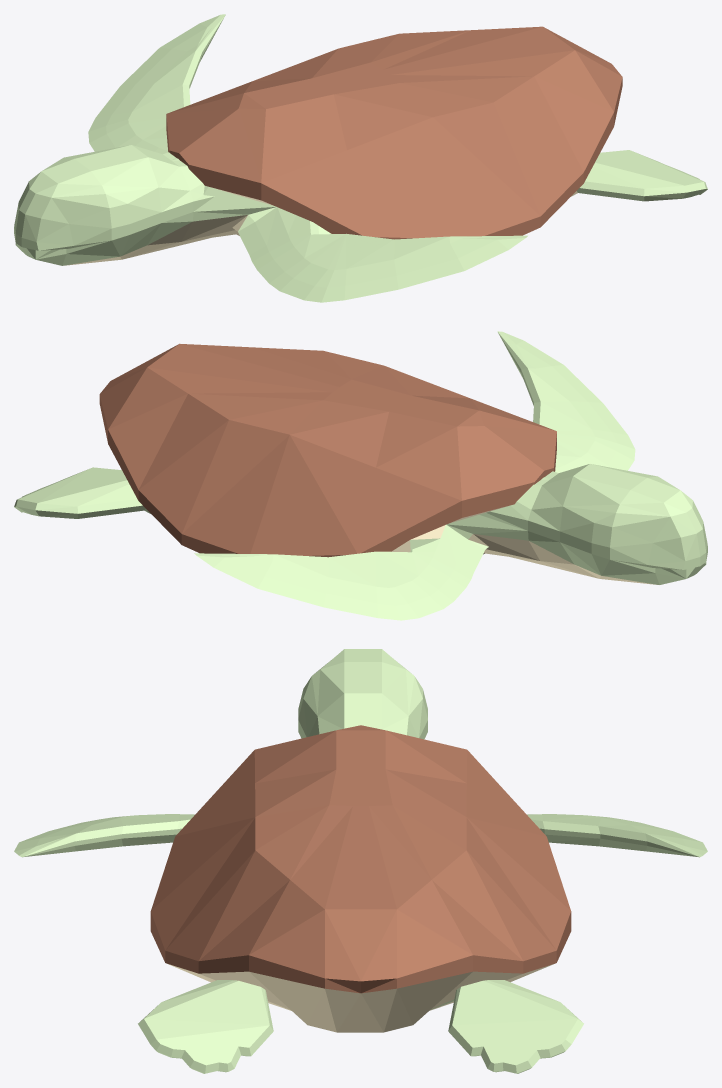
Rendered from Turtle.dae.
3 renders of one model, top to bottom at view 1: azimuth 30°, elevation 25°; view 2: azimuth 150°, elevation 25°; view 3: azimuth 270°, elevation 25°, orthographic. The views are drawn at different scales.
Visible parts, largest first — view 1: SketchUp (×4); view 2: SketchUp (×4); view 3: SketchUp (×5).
Boxes of the visible parts, left/top/right/bottom form: SketchUp (×4): left=14, top=14, right=707, bottom=302; SketchUp (×4): left=14, top=331, right=707, bottom=620; SketchUp (×5): left=14, top=649, right=707, bottom=1073.
Bounding box in the file's own units: 982 × 863 × 203.
